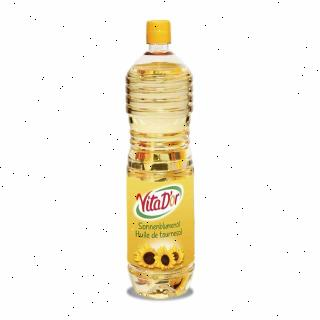Plastic-bottle: (124, 19, 197, 301)
